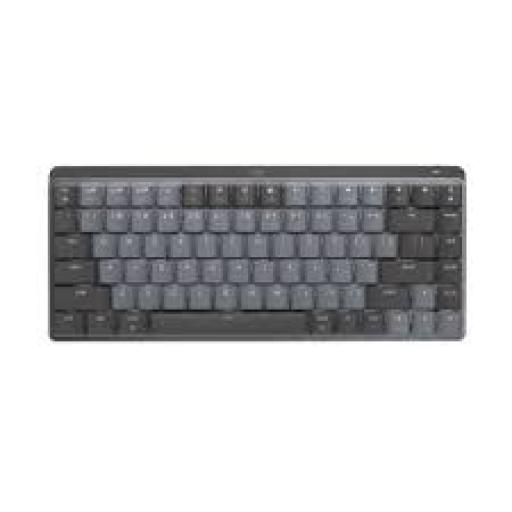keyboard: (48, 166, 464, 339)
